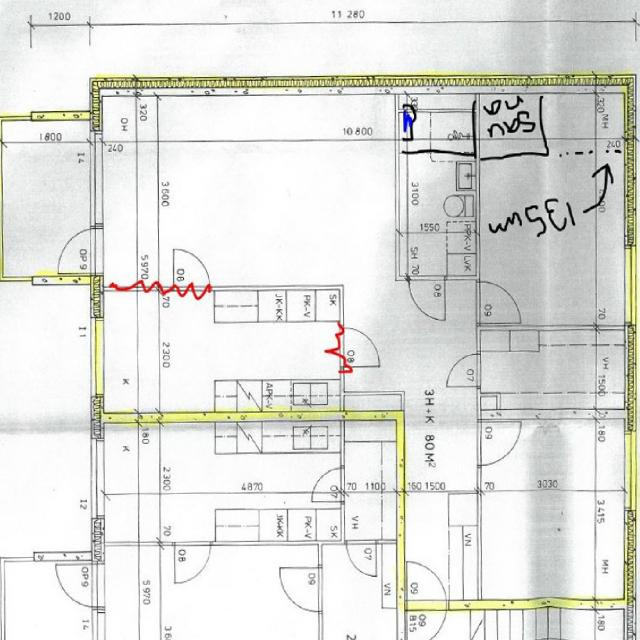door: (49, 229, 102, 273), (407, 557, 446, 609), (478, 422, 521, 464), (478, 281, 521, 323), (407, 600, 446, 640), (408, 276, 444, 319), (449, 354, 482, 386), (454, 116, 482, 142)
